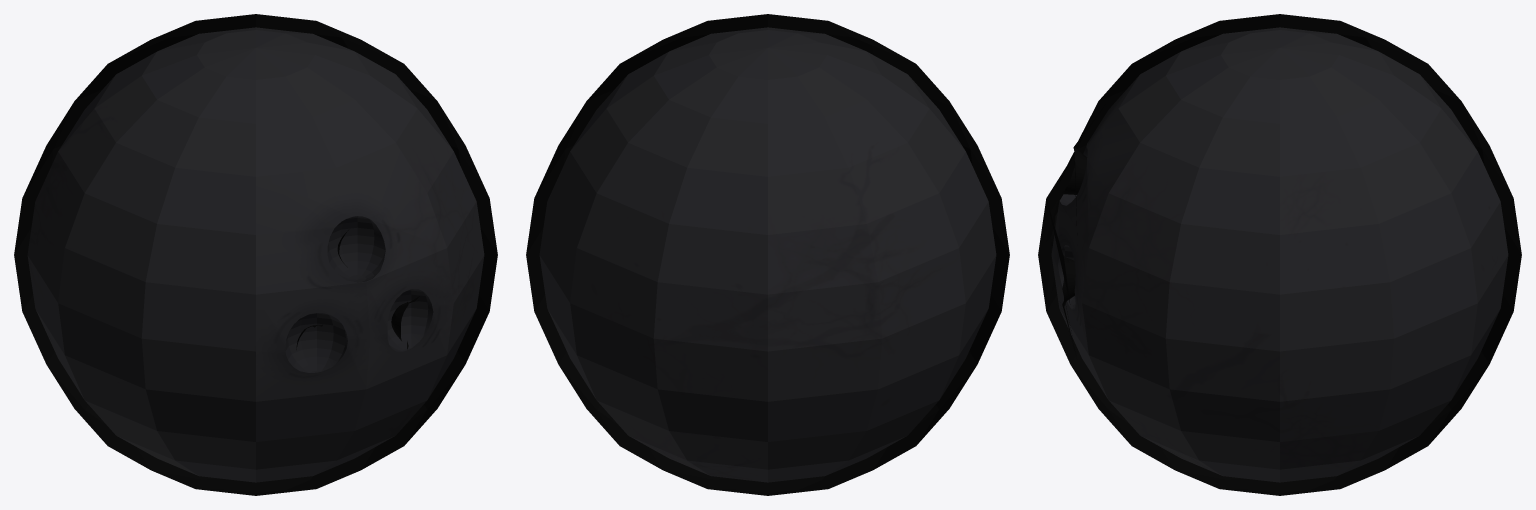
Rendered from bowlingball.fbx.
3 views of the same model, side by side, from view 1: azimuth 30°, elevation 25°; view 2: azimuth 150°, elevation 25°; view 3: azimuth 270°, elevation 25° (orthographic).
Visible parts, largest first — view 1: pSphere6, pSphere7; view 2: pSphere6, pSphere7; view 3: pSphere6, pSphere7.
Part boxes in pixels (bbox=[...]): pSphere6: bbox=[27, 27, 484, 482]; pSphere7: bbox=[14, 14, 497, 495]; pSphere6: bbox=[539, 27, 996, 482]; pSphere7: bbox=[526, 14, 1009, 495]; pSphere6: bbox=[1051, 27, 1508, 482]; pSphere7: bbox=[1038, 14, 1521, 495].
Bounding box in the file's own units: 3.48 × 3.48 × 3.48.
2 materials, 1 textured.
